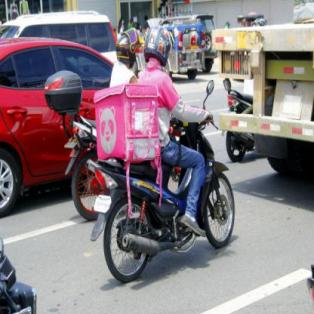Motocicleta: (92, 113, 237, 283)
